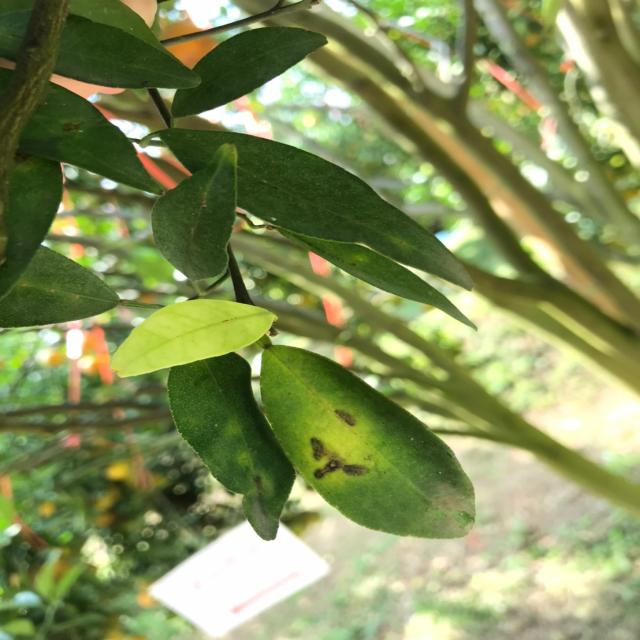canker: (291, 387, 444, 519), (187, 374, 293, 538), (40, 105, 113, 163)
